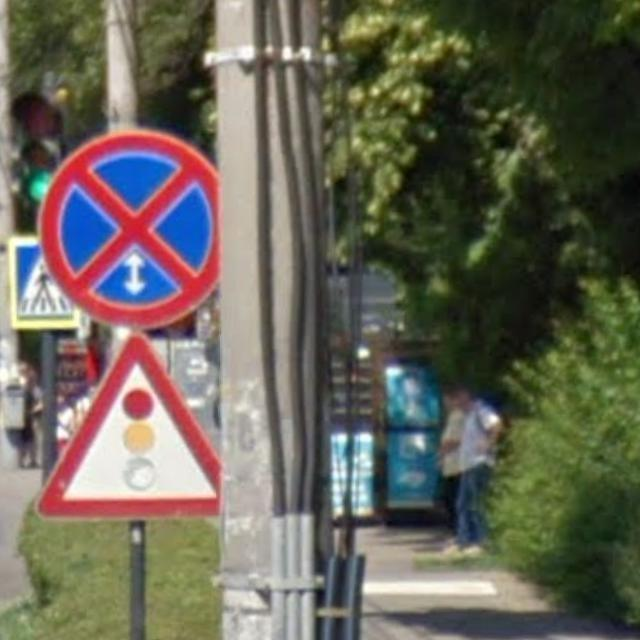forb_waiting: (36, 130, 220, 330)
info_crosswalk: (8, 234, 87, 331)
